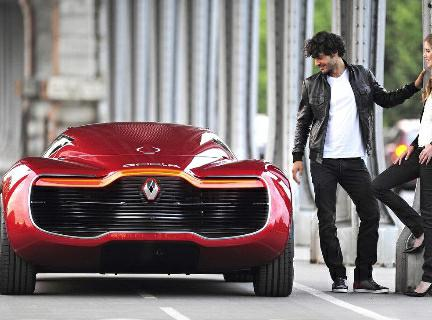雷诺-DeZir: (2, 117, 299, 306)
